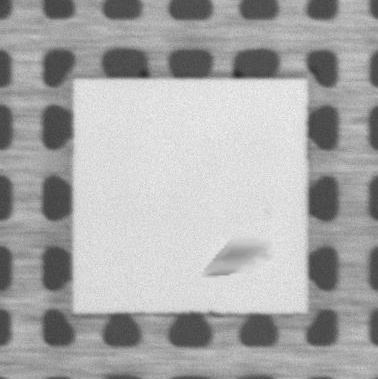DIE_INK: (202, 234, 263, 278)
